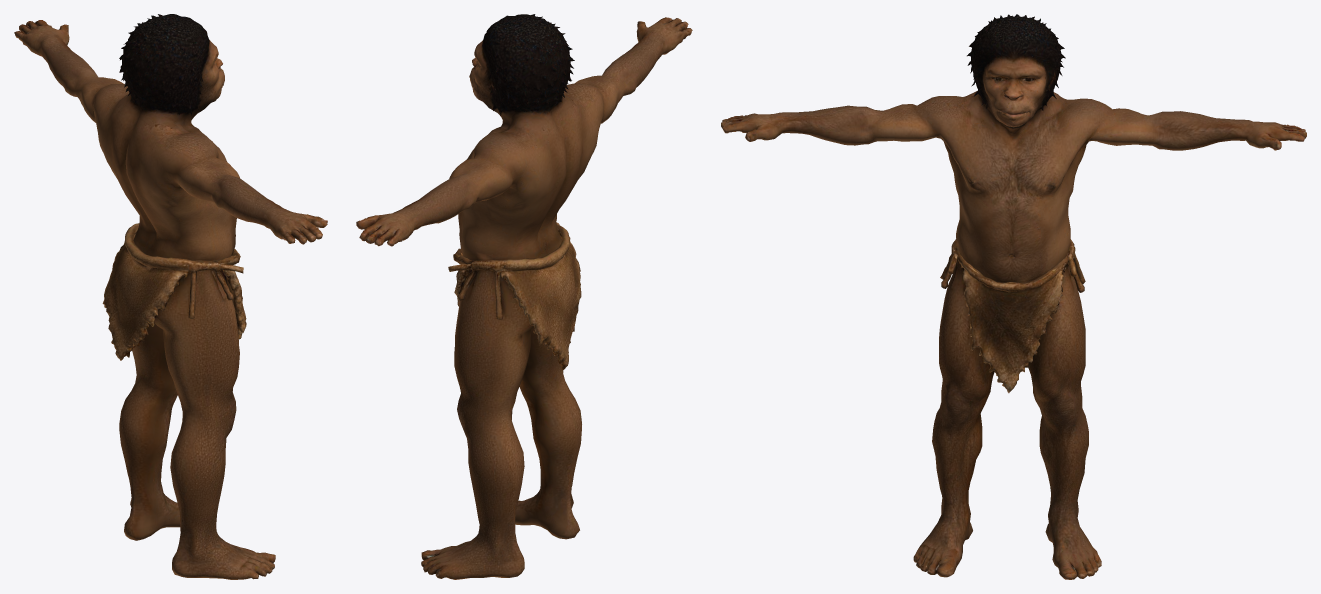
File: pithecanthropus-hotspot.glb
The picture shows the model from 3 angles, left to right: view 1: azimuth 30°, elevation 25°; view 2: azimuth 150°, elevation 25°; view 3: azimuth 270°, elevation 25°; orthographic projection. The views are drawn at different scales.
Visible parts, largest first — view 1: tripo_node_bb1c9875-8850-4cf5-9832-4ffa31dd18b2; view 2: tripo_node_bb1c9875-8850-4cf5-9832-4ffa31dd18b2; view 3: tripo_node_bb1c9875-8850-4cf5-9832-4ffa31dd18b2.
Part boxes in pixels (left/top/right/bottom): tripo_node_bb1c9875-8850-4cf5-9832-4ffa31dd18b2: left=14, top=14, right=327, bottom=579; tripo_node_bb1c9875-8850-4cf5-9832-4ffa31dd18b2: left=356, top=14, right=692, bottom=579; tripo_node_bb1c9875-8850-4cf5-9832-4ffa31dd18b2: left=721, top=14, right=1306, bottom=579.
Size of the model in its own units: 0.2363 by 0.9941 by 0.998.
1 material, 1 textured.
